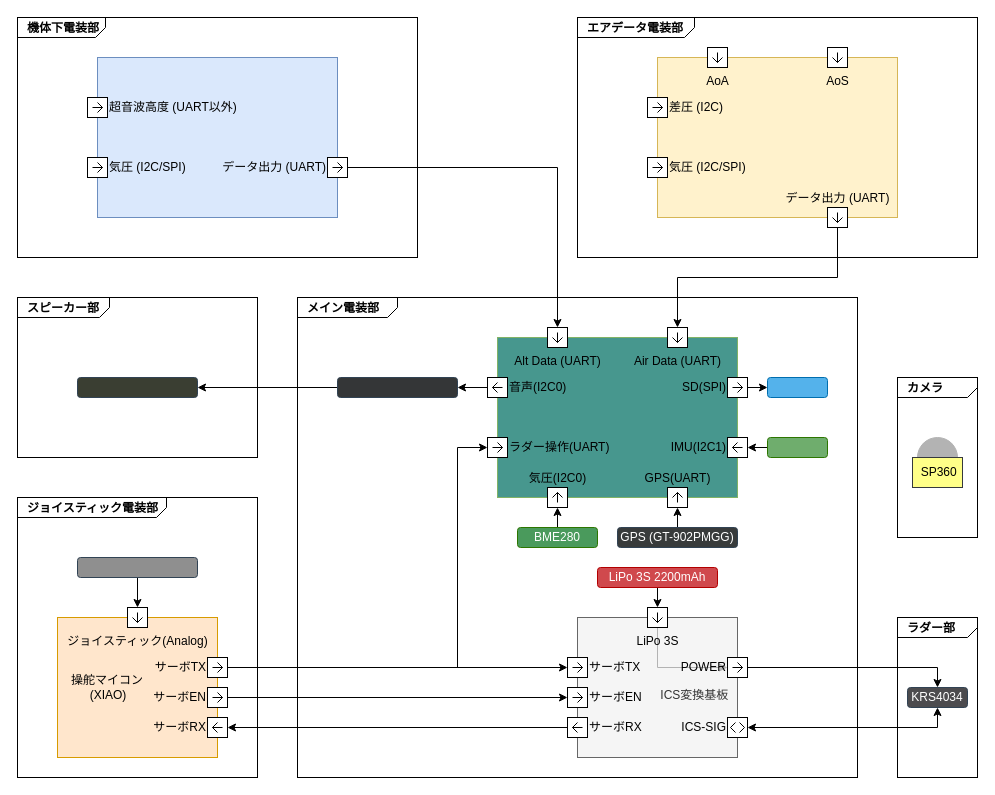
Some shapes in this 995 by 795 pixel diagram are drawn without their labels. The shapes that lost their labels are listed below. From the top down, each one's centre as x and y in pixels, then its label:
At point 217,137: "機体下部高度データマイコン (XIAO)".
At point 777,137: "エアデータマイコン (XIAO)".
At point 137,387: "スピーカー".
At point 397,387: "ATP3012F6-PU".
At point 797,387: "micro SD".
At point 617,417: "メインマイコン (Arduino Due)".
At point 797,447: "BNO055".
At point 137,567: "ジョイスティック".
